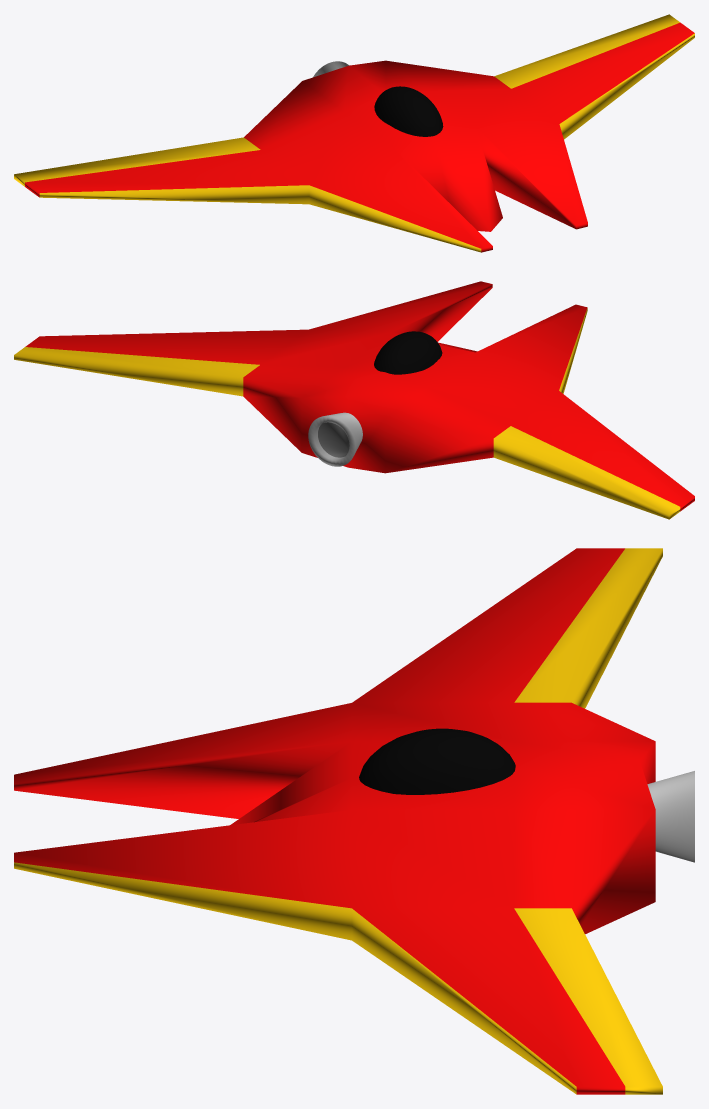
The model's file is SpaceShip0.fbx.
3 views of the same model, one above another, from view 1: azimuth 30°, elevation 25°; view 2: azimuth 150°, elevation 25°; view 3: azimuth 270°, elevation 25° (orthographic). The views are drawn at different scales.
Parts seen in each view (by area): view 1: SpaceShip; view 2: SpaceShip; view 3: SpaceShip.
Part boxes in pixels (x1,y1,x2,y2): SpaceShip: (14,14,694,252); SpaceShip: (14,281,694,519); SpaceShip: (14,548,694,1094).
Size of the model in its own units: 604 by 77.49 by 323.
